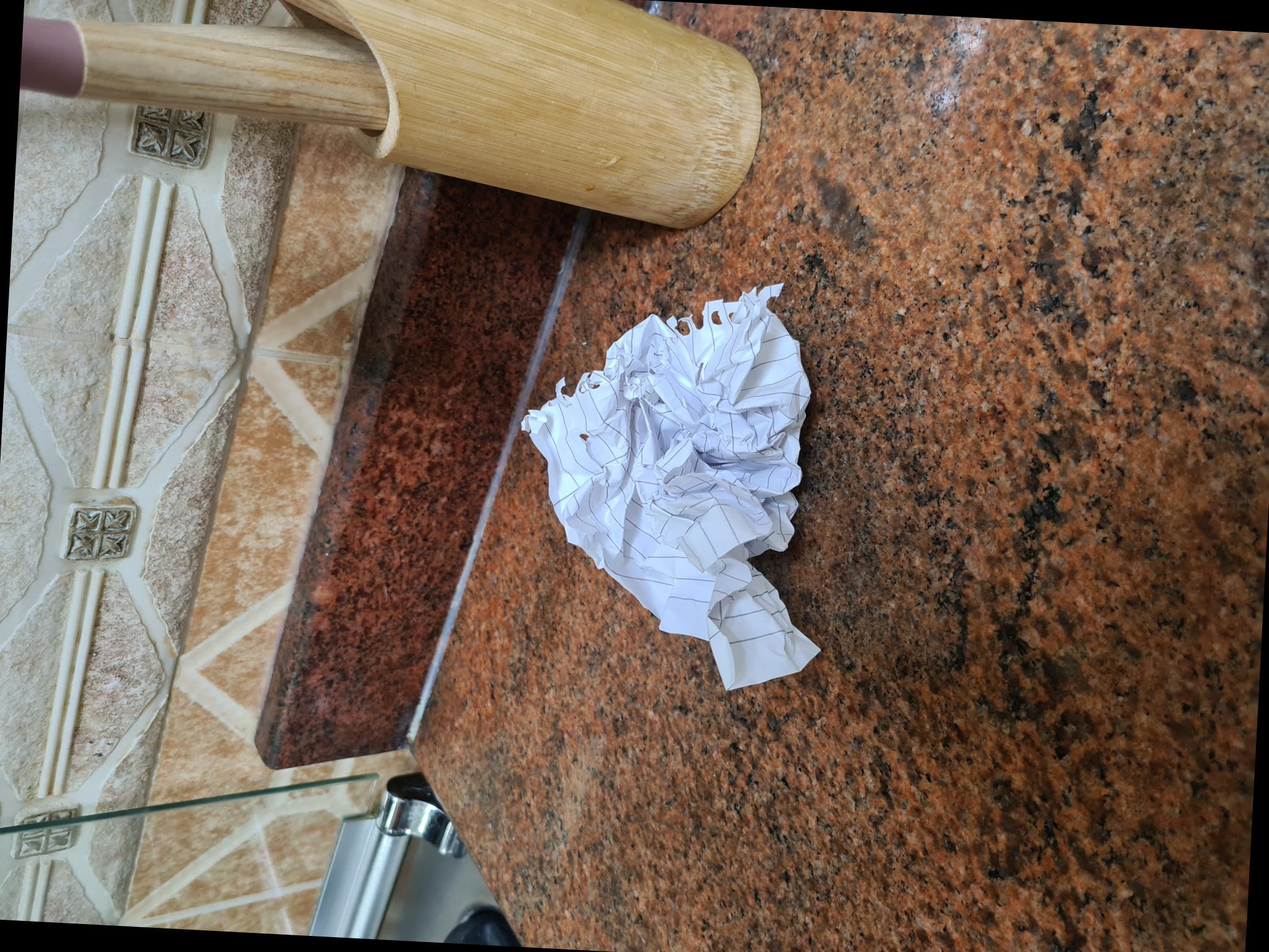Kertas: (255, 514, 659, 811)
